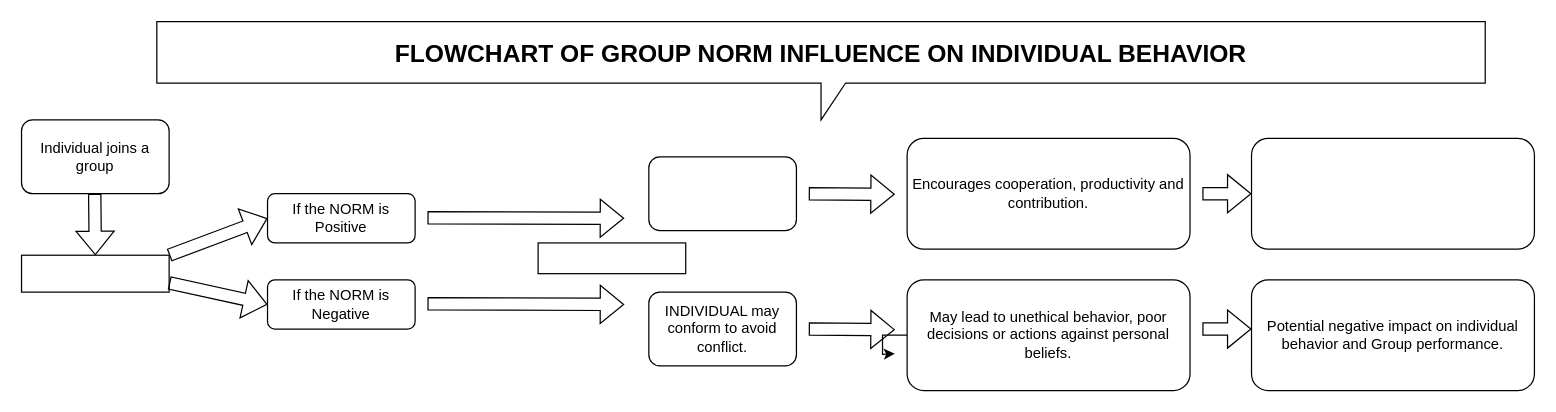
This 1556x412 diagram has some shape labels left out. Each missing label, with the centre of its shape:
A norm is set: the point at 94,273
Improved teamwork, productivity, and positive group dynamic: the point at 1392,193
INDIVIDUAL: the point at 611,258
INDIVIDUAL adopts this to fit in: the point at 722,193
